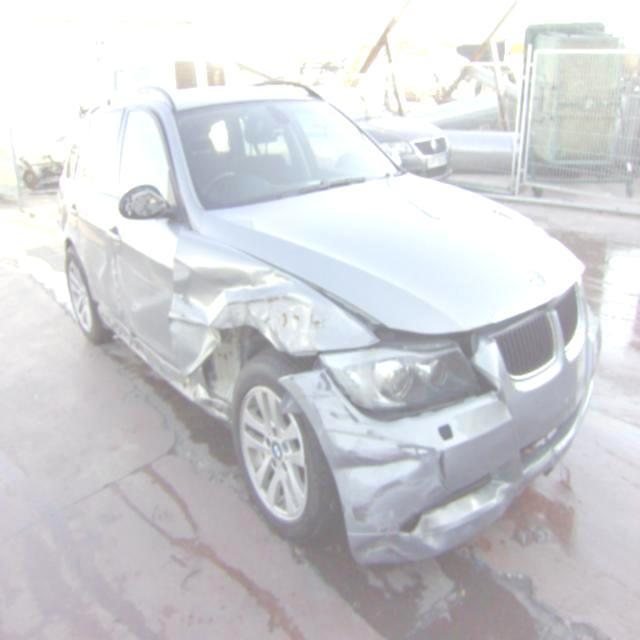minor: (168, 258, 450, 518)
